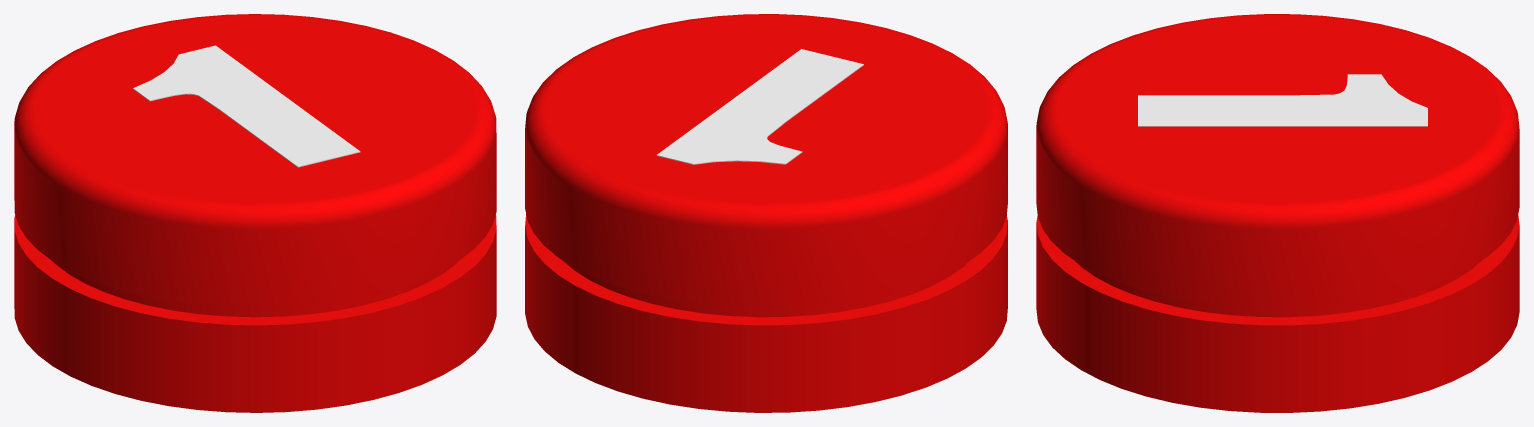
File: nubot_frame1_red.dae
3 views of the same model, side by side, from view 1: azimuth 30°, elevation 25°; view 2: azimuth 150°, elevation 25°; view 3: azimuth 270°, elevation 25° (orthographic).
Parts seen in each view (by area): view 1: SketchUp (×3), instance_0; view 2: SketchUp (×3), instance_0; view 3: SketchUp (×3), instance_0.
Boxes of the visible parts, x1,y1,x2,y2 form: SketchUp (×3): (14, 14, 496, 412); instance_0: (133, 45, 360, 167); SketchUp (×3): (525, 14, 1007, 412); instance_0: (656, 49, 863, 164); SketchUp (×3): (1036, 14, 1519, 412); instance_0: (1138, 74, 1427, 126).
Bounding box in the file's own units: 19.66 × 19.68 × 9.09.
